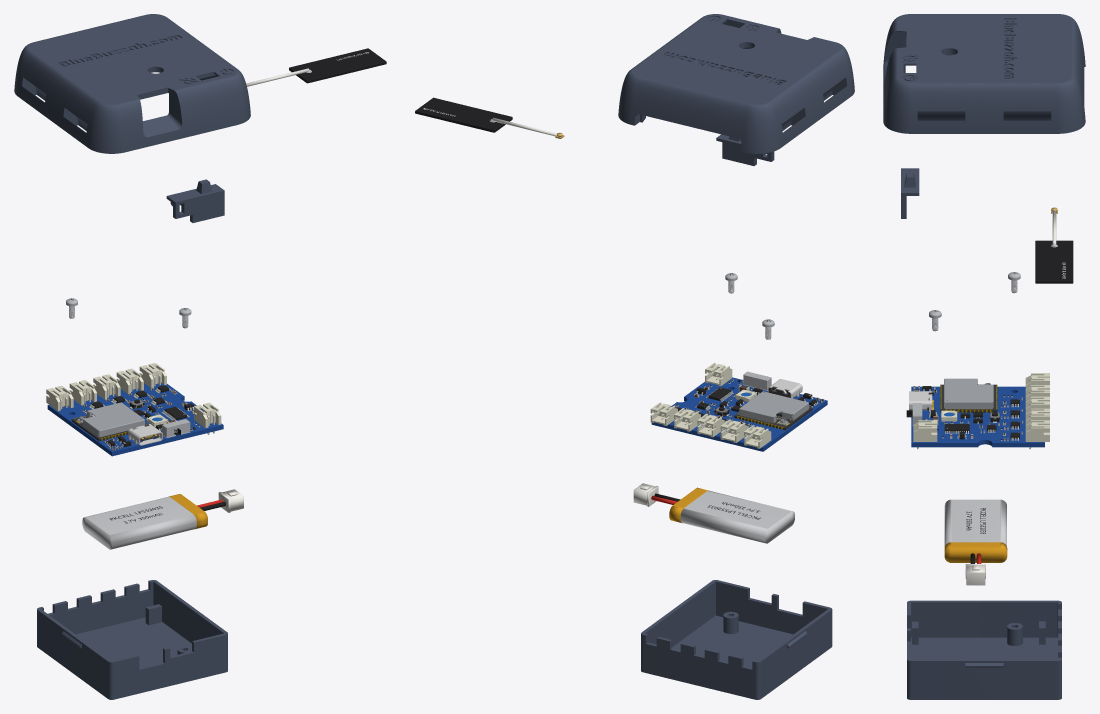
Rendered from bluebuzzah-exploded.glb.
3 views of the same model, side by side, from view 1: azimuth 30°, elevation 25°; view 2: azimuth 150°, elevation 25°; view 3: azimuth 270°, elevation 25° (orthographic). The views are drawn at different scales.
Parts seen in each view (by area): view 1: upper-shell, lower-shell, pouch, BlueBuzzah_v3_PCB, switch, ant-board, ShieldBox_ESP32-S3-WROOM-1U_V1.1_20211014.step_2; view 2: upper-shell, lower-shell, pouch, BlueBuzzah_v3_PCB, ant-board, ShieldBox_ESP32-S3-WROOM-1U_V1.1_20211014.step_2, switch; view 3: upper-shell, lower-shell, BlueBuzzah_v3_PCB, pouch, ant-board, ShieldBox_ESP32-S3-WROOM-1U_V1.1_20211014.step_2, kapton, switch, JST_S2B_PH_K005, JST_S2B_PH_K001, USB-C_SMD-TYPE-C-31-M-12, bat-ph-body (+1 smaller).
Boxes of the visible parts, left/top/right/bottom form: upper-shell: left=14, top=14, right=250, bottom=153; lower-shell: left=37, top=580, right=227, bottom=699; pouch: left=82, top=496, right=196, bottom=549; BlueBuzzah_v3_PCB: left=47, top=383, right=223, bottom=456; switch: left=166, top=179, right=224, bottom=222; ant-board: left=289, top=48, right=386, bottom=83; ShieldBox_ESP32-S3-WROOM-1U_V1.1_20211014.step_2: left=83, top=402, right=144, bottom=437; upper-shell: left=618, top=14, right=854, bottom=153; lower-shell: left=641, top=580, right=832, bottom=699; pouch: left=680, top=490, right=794, bottom=543; BlueBuzzah_v3_PCB: left=651, top=377, right=827, bottom=451; ant-board: left=415, top=97, right=512, bottom=132; ShieldBox_ESP32-S3-WROOM-1U_V1.1_20211014.step_2: left=739, top=391, right=808, bottom=423; switch: left=716, top=134, right=774, bottom=165; upper-shell: left=883, top=14, right=1085, bottom=133; lower-shell: left=907, top=600, right=1061, bottom=699; BlueBuzzah_v3_PCB: left=911, top=386, right=1044, bottom=447; pouch: left=944, top=499, right=1006, bottom=546; ant-board: left=1035, top=240, right=1073, bottom=283; ShieldBox_ESP32-S3-WROOM-1U_V1.1_20211014.step_2: left=944, top=378, right=993, bottom=408; kapton: left=944, top=542, right=1007, bottom=562; switch: left=901, top=168, right=919, bottom=218; JST_S2B_PH_K005: left=913, top=420, right=937, bottom=449; JST_S2B_PH_K001: left=1025, top=420, right=1049, bottom=449; USB-C_SMD-TYPE-C-31-M-12: left=909, top=391, right=933, bottom=411; bat-ph-body: left=966, top=565, right=985, bottom=585.
Bounding box in the file's own units: 0.1349 × 0.2157 × 0.0636.
